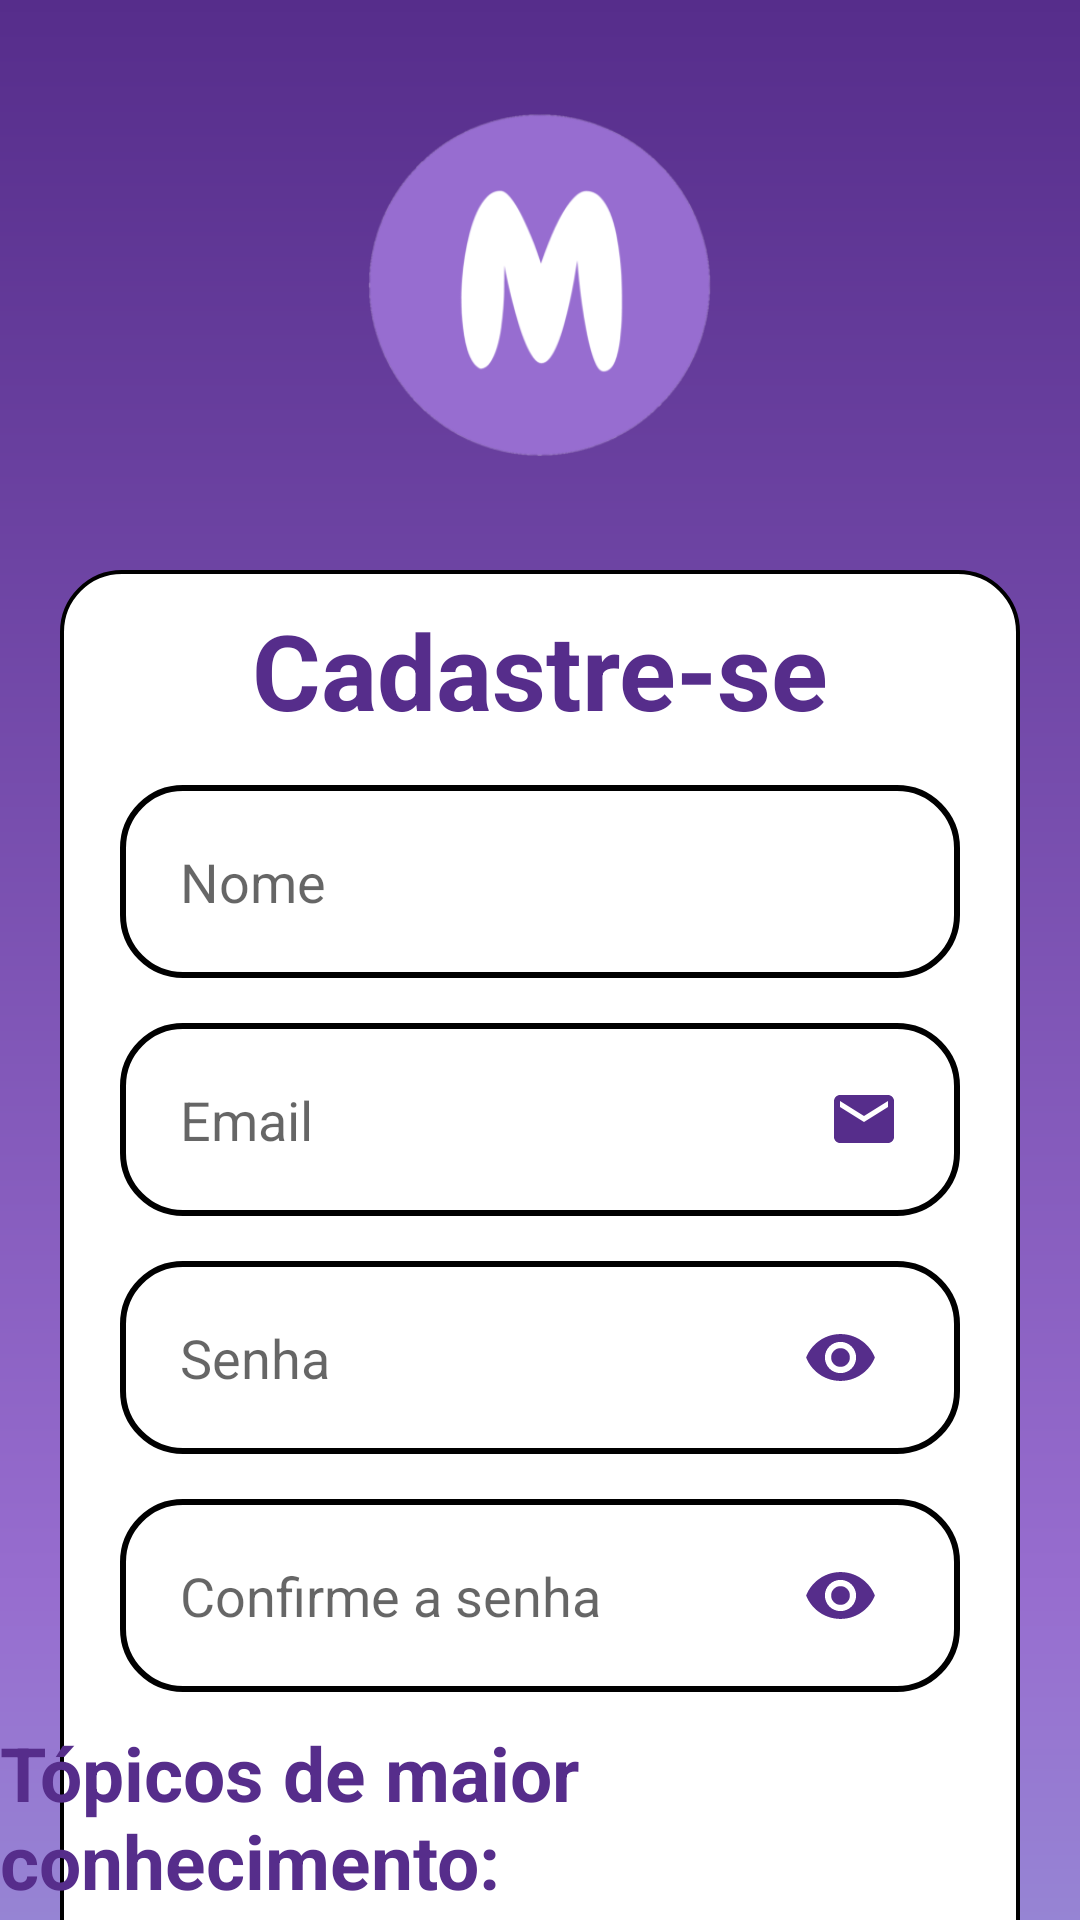

Point at icon controls on the screen. Image size 1080w x 1920h, points as point (x, y).
eye: point (840, 1357), point (840, 1595)
